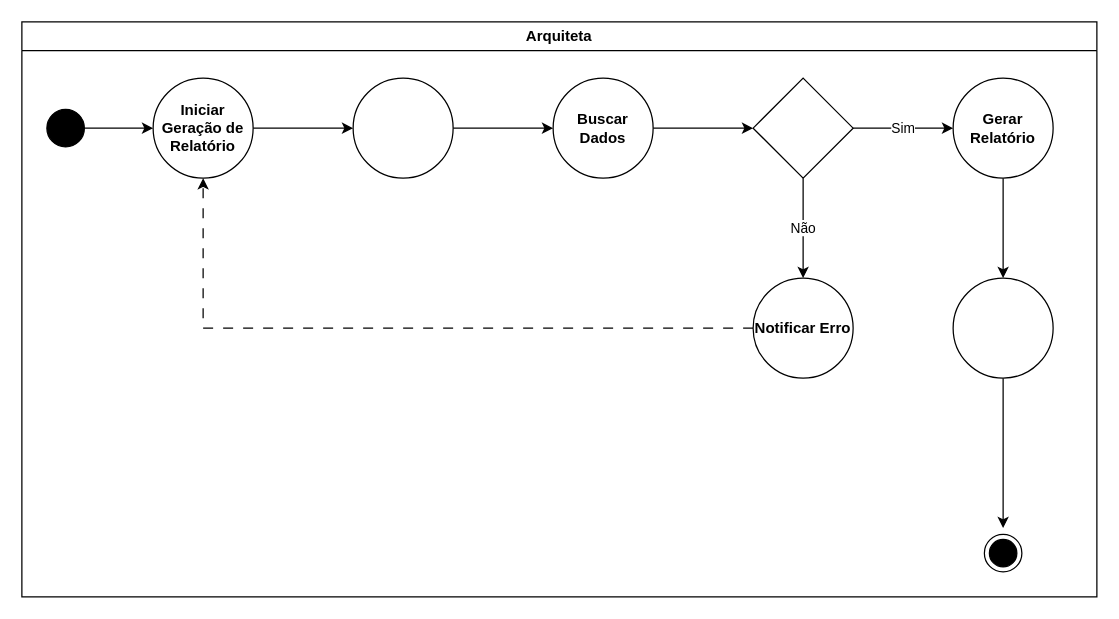
Some shapes in this 1119 by 619 pixel diagram are drawn without their labels. The centre of each missing label's shape, as x and y in pixels:
Coletar Critérios de Seleção: (x=402, y=127)
Consultar Dados: (x=802, y=127)
Finalizar Geração de Relatório: (x=1002, y=327)
